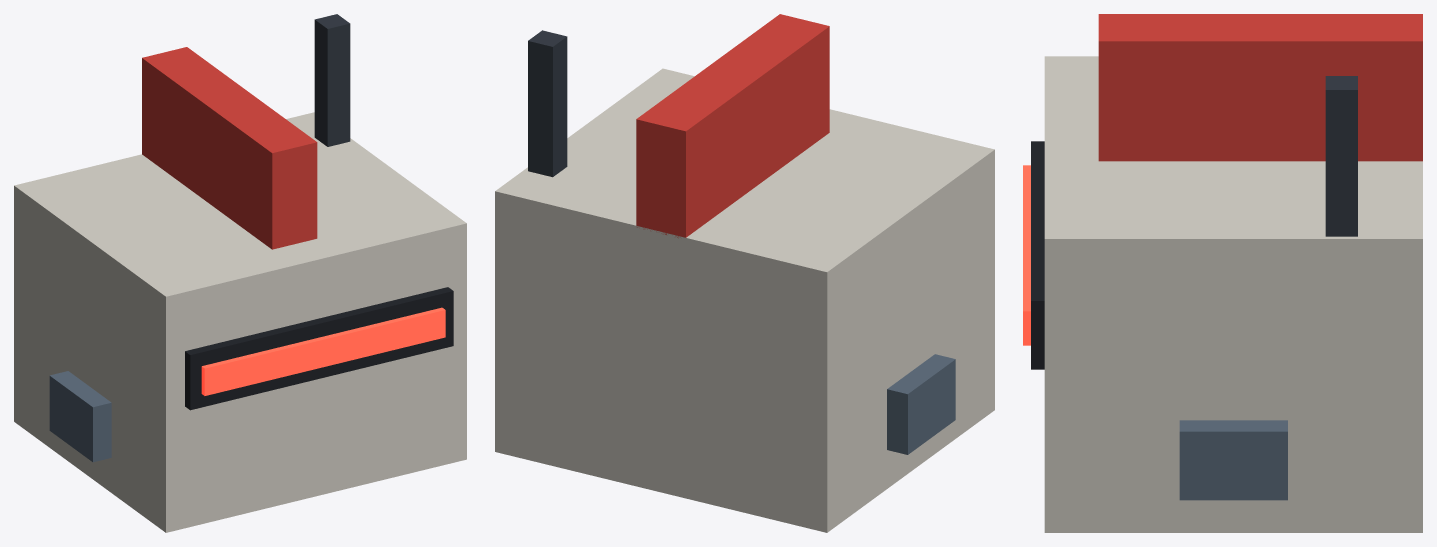
File: robot_head.glb
3 renders of one model, left to right at view 1: azimuth 30°, elevation 25°; view 2: azimuth 150°, elevation 25°; view 3: azimuth 270°, elevation 25°, orthographic. The views are drawn at different scales.
Visible parts, largest first — view 1: robot_head_armor, robot_head_red, robot_head_black, robot_head_glowRed, robot_head_steelDark, robot_head_steel; view 2: robot_head_armor, robot_head_red, robot_head_steelDark, robot_head_steel; view 3: robot_head_armor, robot_head_red, robot_head_steel, robot_head_steelDark, robot_head_black, robot_head_glowRed.
Boxes of the visible parts, x1,y1,x2,y2 form: robot_head_armor: (14,112,466,532); robot_head_red: (142,47,317,249); robot_head_black: (185,287,453,410); robot_head_glowRed: (201,307,445,395); robot_head_steelDark: (314,14,350,146); robot_head_steel: (49,371,111,462); robot_head_armor: (495,68,994,532); robot_head_red: (636,14,829,238); robot_head_steelDark: (528,30,567,177); robot_head_steel: (887,354,955,454); robot_head_armor: (1044,56,1422,532); robot_head_red: (1098,14,1422,161); robot_head_steel: (1179,420,1287,500); robot_head_steelDark: (1325,76,1357,236); robot_head_black: (1031,141,1044,369); robot_head_glowRed: (1023,165,1030,345).
Size of the model in its own units: 9 by 9 by 7.4.
